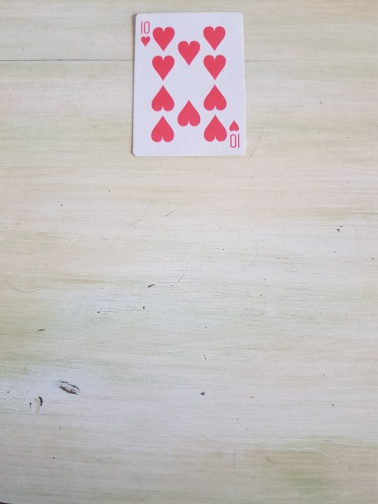ten: (130, 10, 248, 158)
